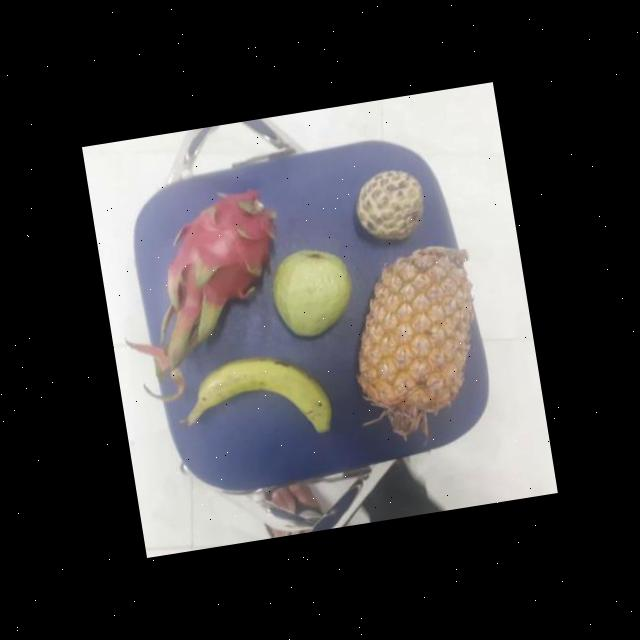Sakya fruit: (348, 168, 430, 245)
banana: (175, 346, 333, 450)
guava: (264, 244, 358, 342)
pineapple: (340, 243, 488, 427)
pitaya: (154, 188, 286, 318)
